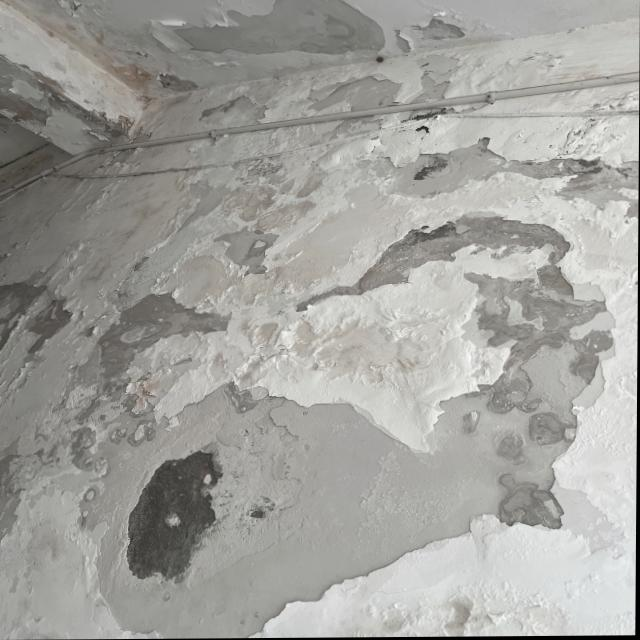spalling: (43, 216, 615, 634), (168, 74, 639, 268), (160, 0, 389, 53)
